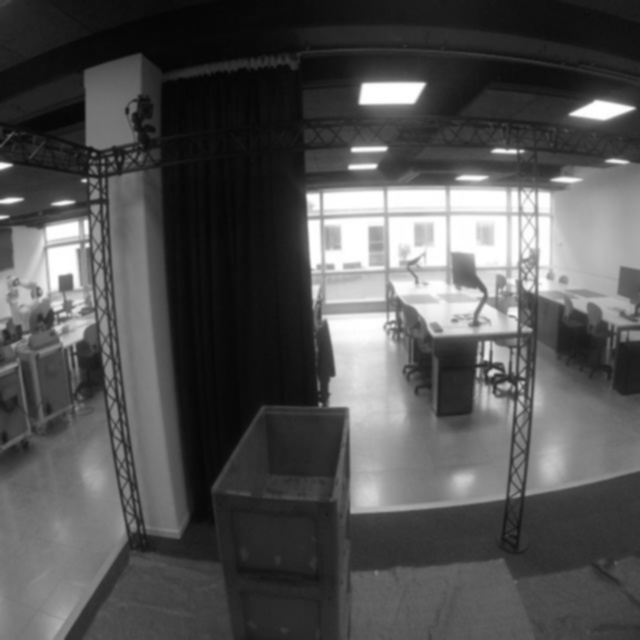BoxB4: (212, 406, 350, 581), (227, 542, 352, 640)
